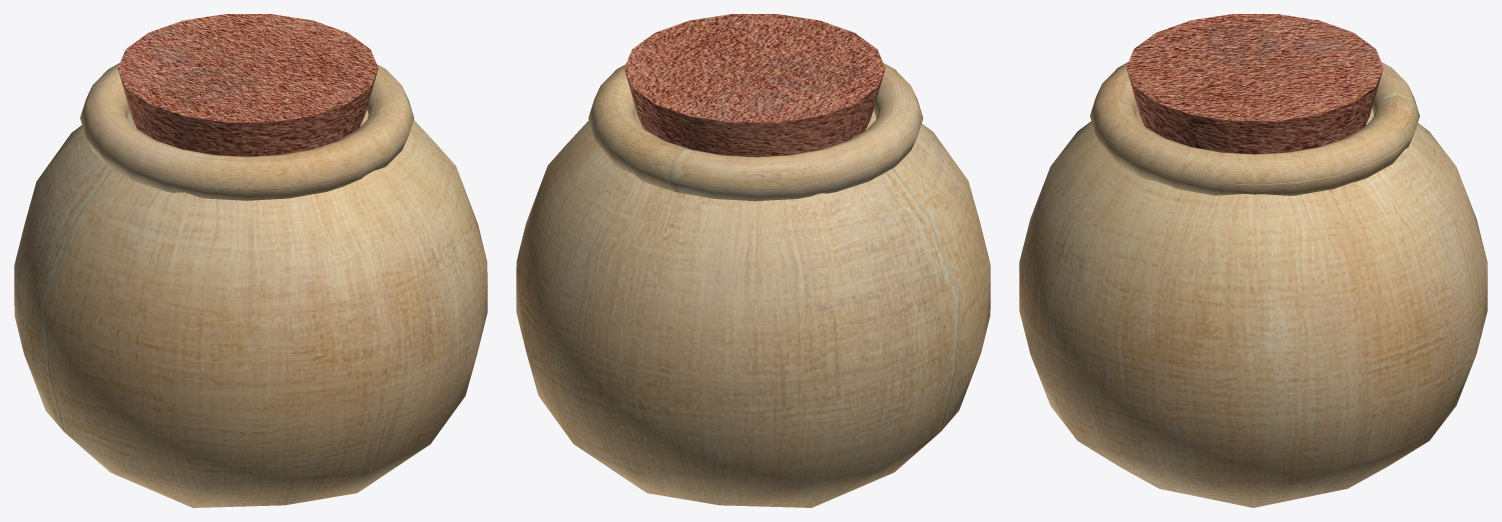
The model's file is Bomb.FBX.
3 views of the same model, side by side, from view 1: azimuth 30°, elevation 25°; view 2: azimuth 150°, elevation 25°; view 3: azimuth 270°, elevation 25° (orthographic).
Parts seen in each view (by area): view 1: Bombe; view 2: Bombe; view 3: Bombe.
Boxes of the visible parts, bbox=[...] form: Bombe: bbox=[14, 14, 487, 507]; Bombe: bbox=[516, 14, 990, 507]; Bombe: bbox=[1019, 14, 1487, 507].
Size of the model in its own units: 54.47 by 48.89 by 54.34.
